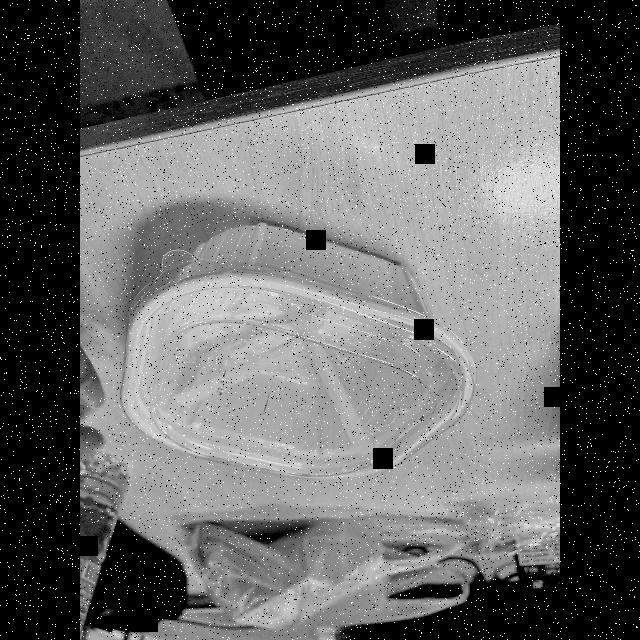plastic_box: (115, 208, 491, 496)
